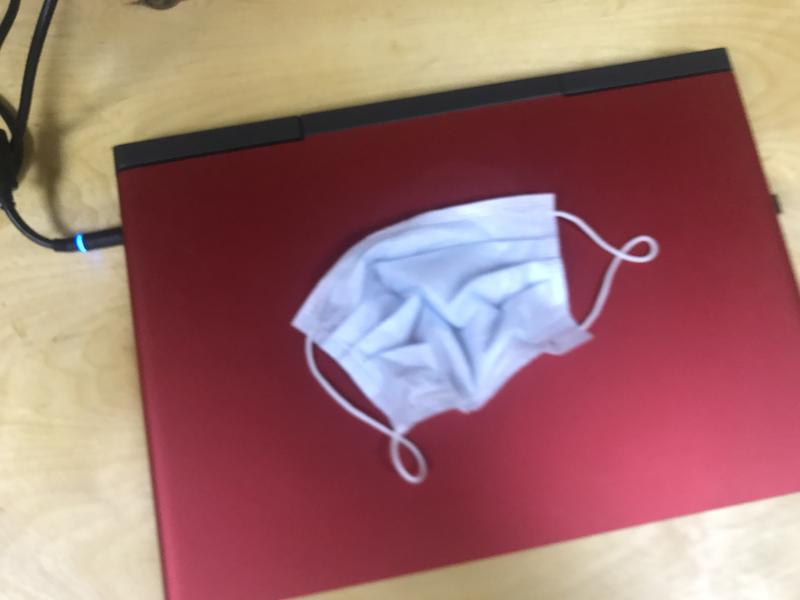medical_mask: (288, 192, 659, 487)
